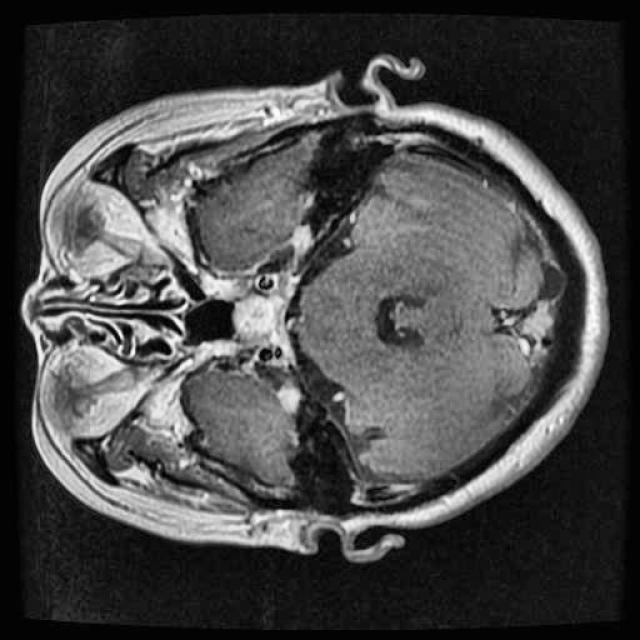Tumor: (223, 284, 296, 356)
